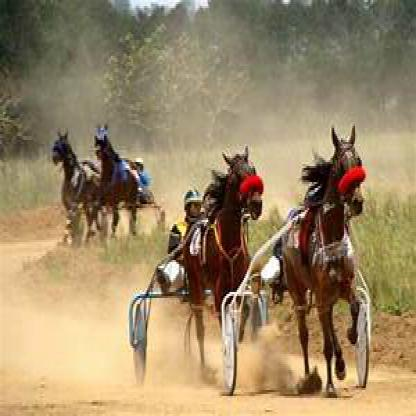horse: (280, 120, 369, 402), (180, 146, 265, 376), (93, 122, 151, 236), (48, 132, 94, 238)
